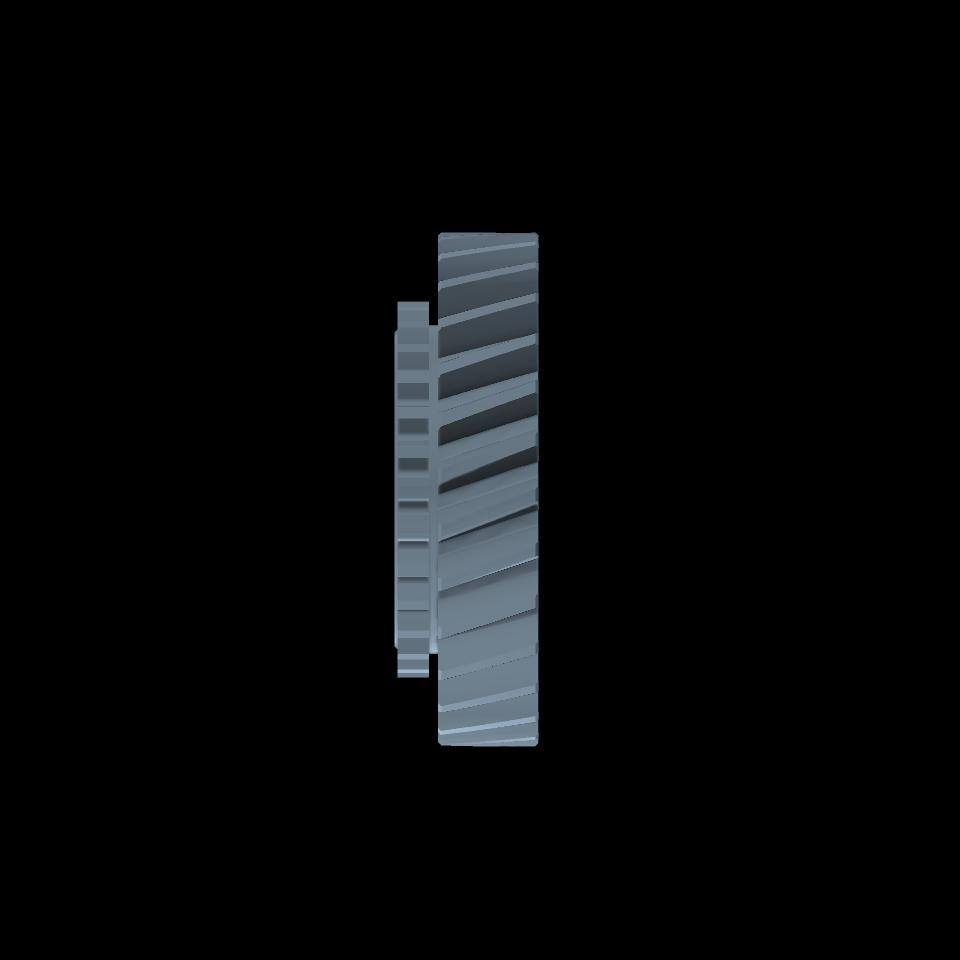Helical: (438, 233, 537, 746)
Straight: (398, 302, 430, 676)
